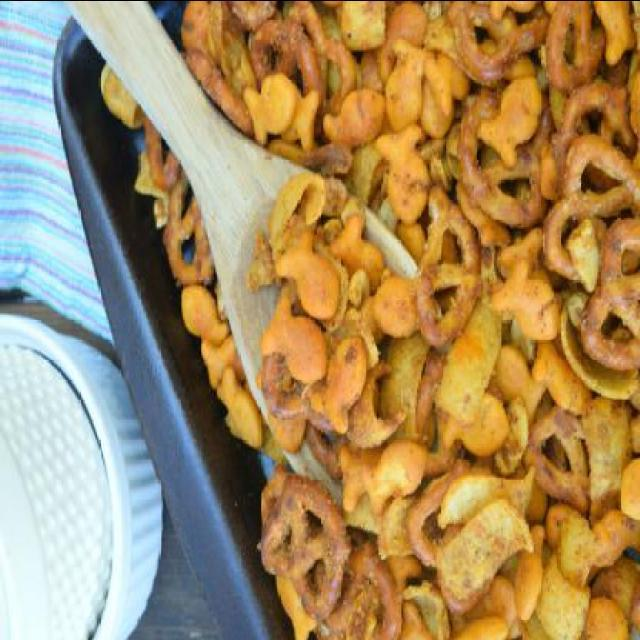Salatini packaged: (155, 0, 639, 631)
